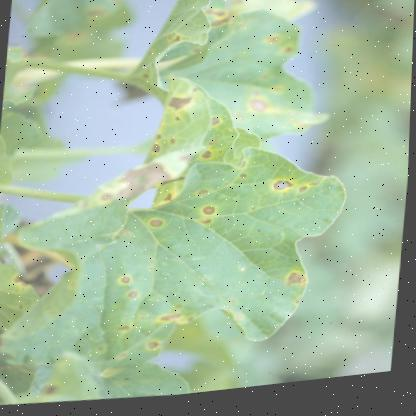AlternariaBrassicicola: (244, 97, 276, 129), (161, 94, 195, 119), (257, 34, 283, 56), (285, 277, 308, 298), (271, 184, 296, 201), (156, 315, 186, 329), (299, 185, 323, 202), (199, 208, 224, 223), (274, 50, 295, 67), (147, 144, 164, 165), (147, 221, 168, 233), (118, 276, 135, 290), (125, 292, 142, 305), (165, 138, 180, 152), (194, 192, 212, 201), (199, 155, 215, 165)
